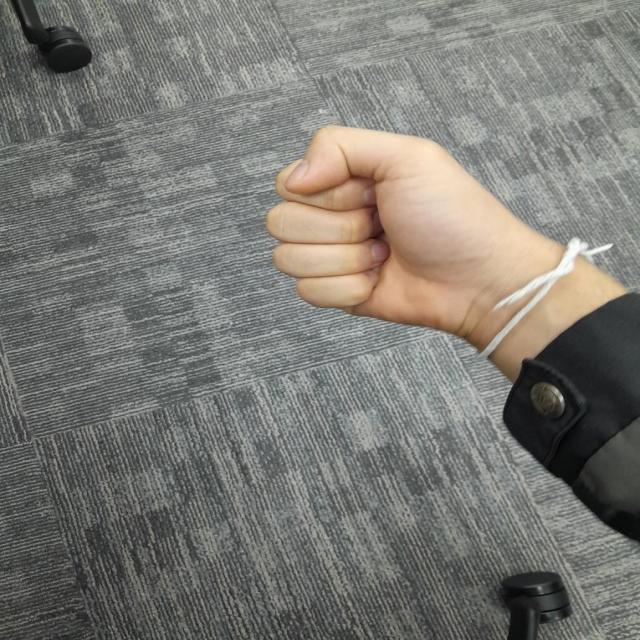fist: (267, 121, 514, 331)
